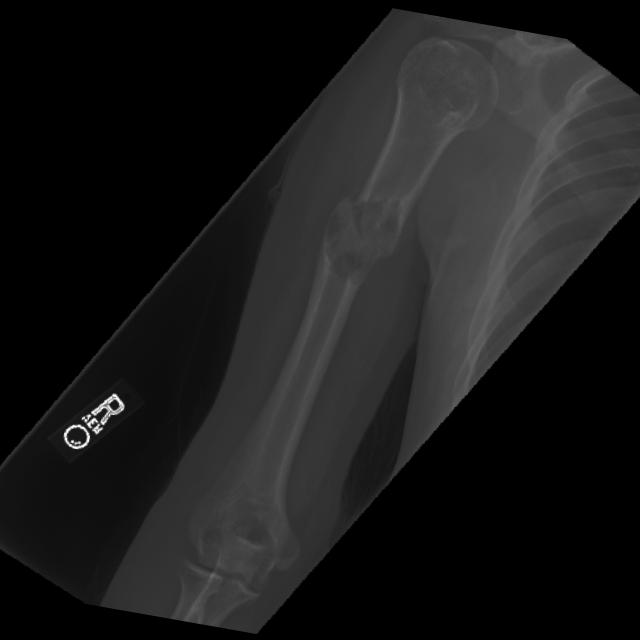humerus fracture: (277, 142, 466, 348)
